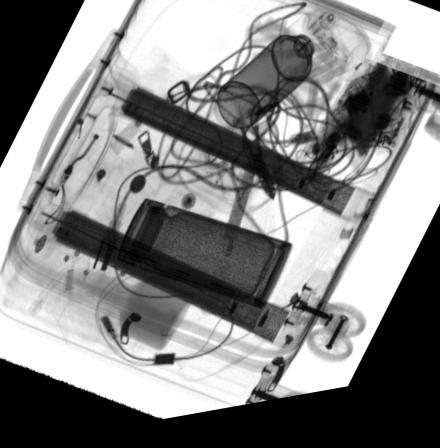Powerbank: (333, 52, 415, 170)
Scissors: (215, 95, 276, 209)
Sprayer: (218, 20, 335, 140)
